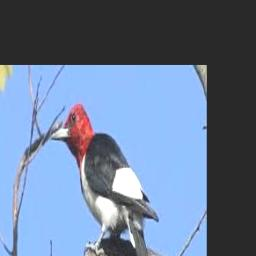Woodpecker: (50, 103, 158, 256)
